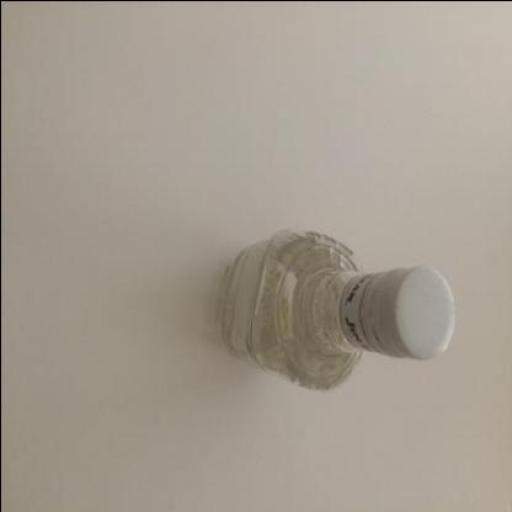glass: (217, 231, 369, 392)
metal: (360, 265, 457, 361)
